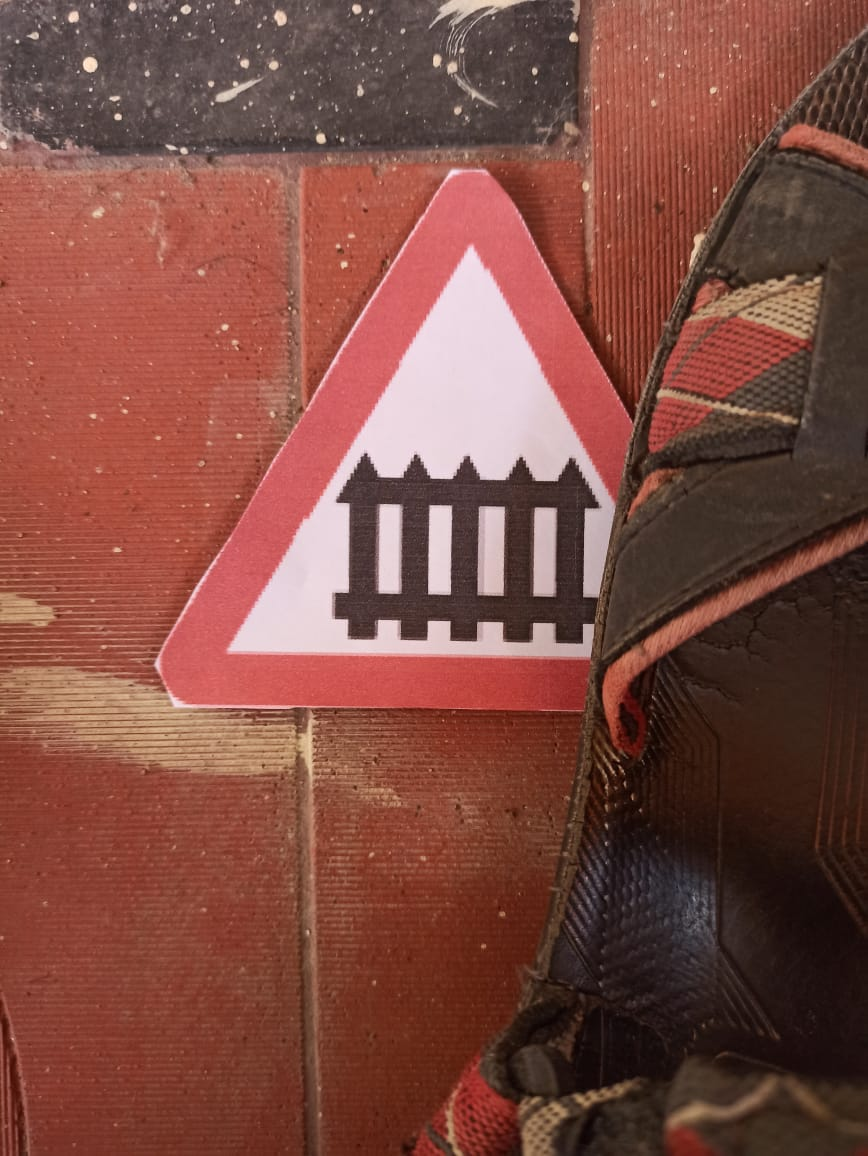GUARDED LEVEL CROSSING: (171, 161, 686, 749)
